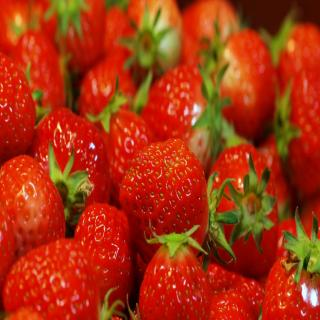Strawberry: (0, 0, 319, 319), (113, 136, 208, 248), (76, 205, 138, 308)
